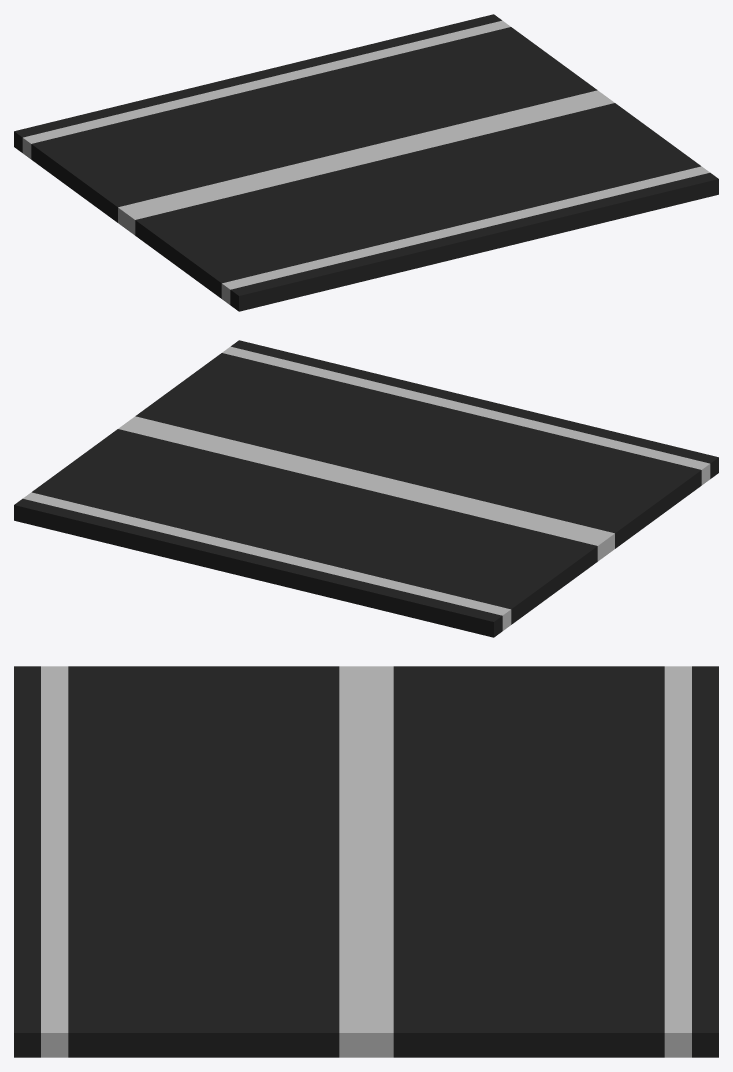
File: road-straight-2.gltf
The picture shows the model from 3 angles, top to bottom: view 1: azimuth 30°, elevation 25°; view 2: azimuth 150°, elevation 25°; view 3: azimuth 270°, elevation 25°; orthographic projection. The views are drawn at different scales.
Parts seen in each view (by area): view 1: road-straight-2_model; view 2: road-straight-2_model; view 3: road-straight-2_model.
Part boxes in pixels (left/top/right/bottom): road-straight-2_model: left=14, top=14, right=718, bottom=311; road-straight-2_model: left=14, top=340, right=718, bottom=637; road-straight-2_model: left=14, top=666, right=718, bottom=1057.
Size of the model in its own units: 3.2 by 0.1 by 2.6.
1 material, 1 textured.
